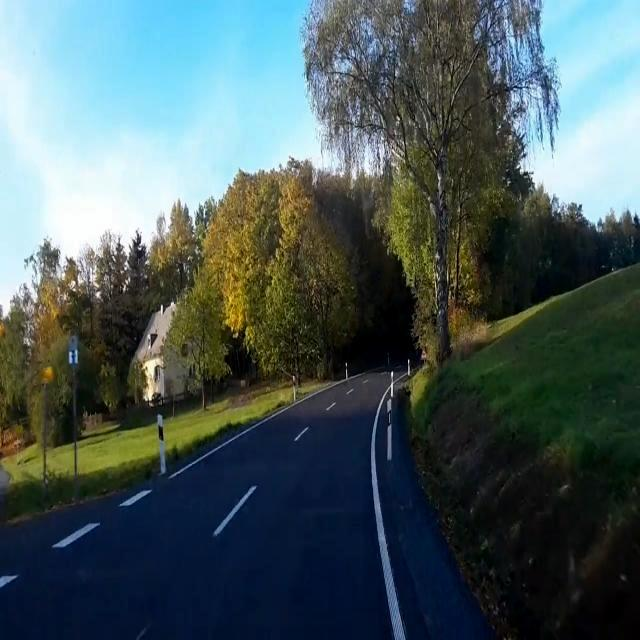lane: (371, 389, 406, 640), (212, 485, 256, 536), (52, 522, 100, 549), (119, 490, 152, 508), (294, 426, 309, 442)
road: (0, 371, 493, 639)
